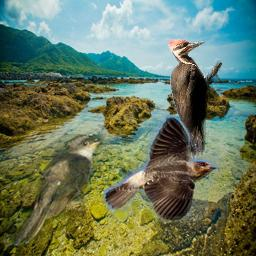Cuckoo: (7, 134, 106, 250)
Swallow: (103, 115, 221, 222)
Woodpecker: (167, 39, 222, 163)
